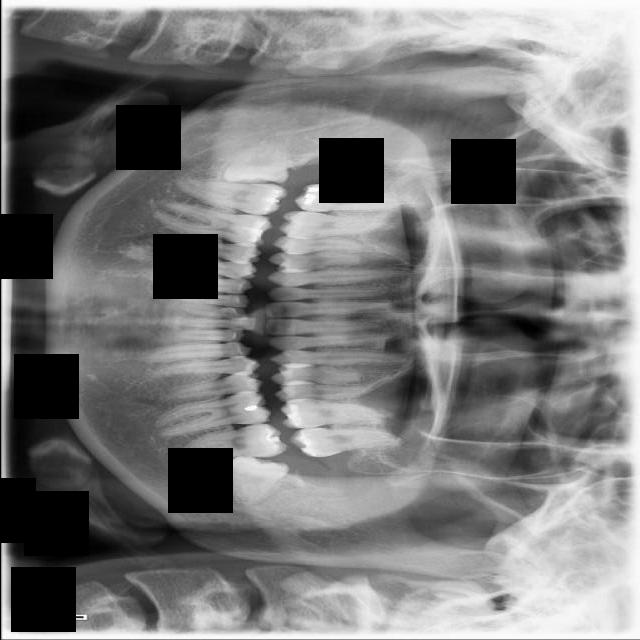52: (233, 417, 287, 463), (239, 178, 289, 220), (293, 182, 342, 214), (224, 391, 271, 424), (280, 398, 325, 429)
73: (51, 596, 60, 600)
BioHorizons Implant: (286, 426, 400, 462)
Biomet 3i Implant: (218, 451, 289, 515)
Blue Sky Bio Implant: (167, 422, 287, 464)
Caries: (294, 183, 413, 213)
Implant: (171, 174, 288, 218)
Keystone Dental Implant: (222, 135, 291, 184)
